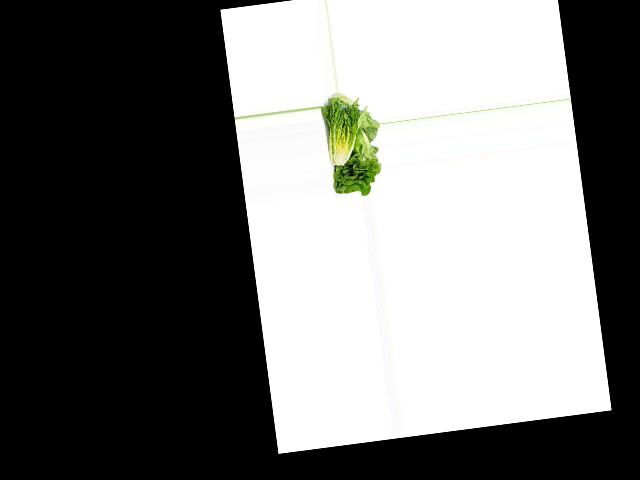lettuce: (323, 130, 384, 198)
